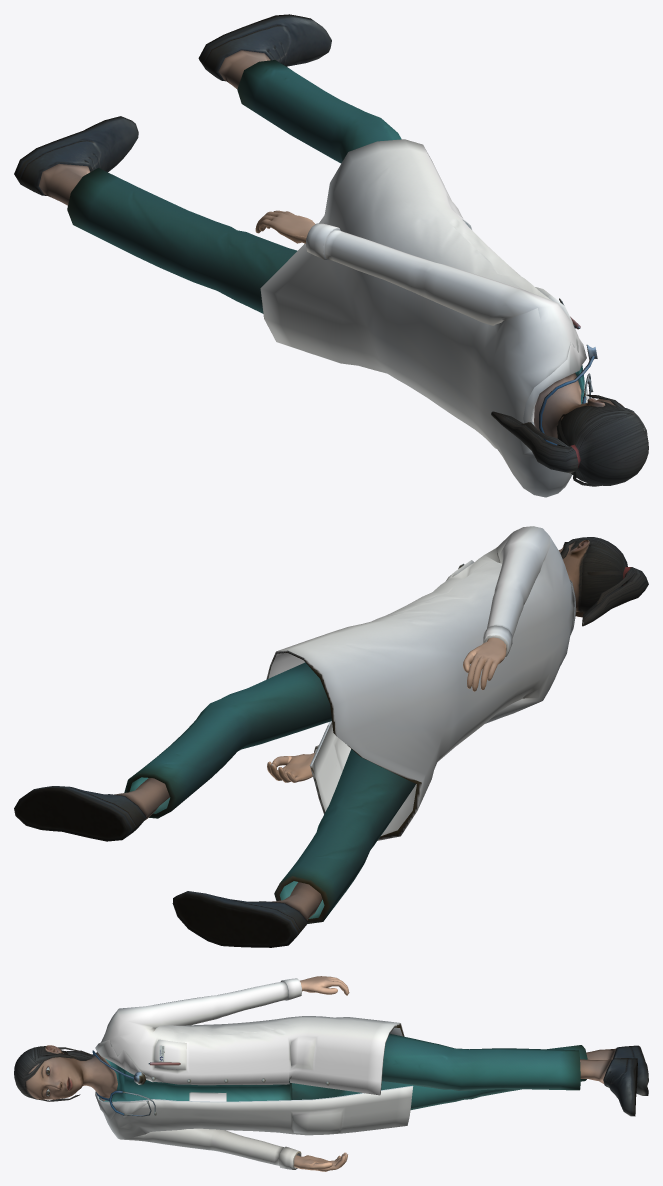
The model's file is walk.obj.
The picture shows the model from 3 angles, top to bottom: view 1: azimuth 30°, elevation 25°; view 2: azimuth 150°, elevation 25°; view 3: azimuth 270°, elevation 25°; orthographic projection. The views are drawn at different scales.
Bounding box in the file's own units: 0.6376 × 0.3862 × 1.72.
1 material, 1 textured.
